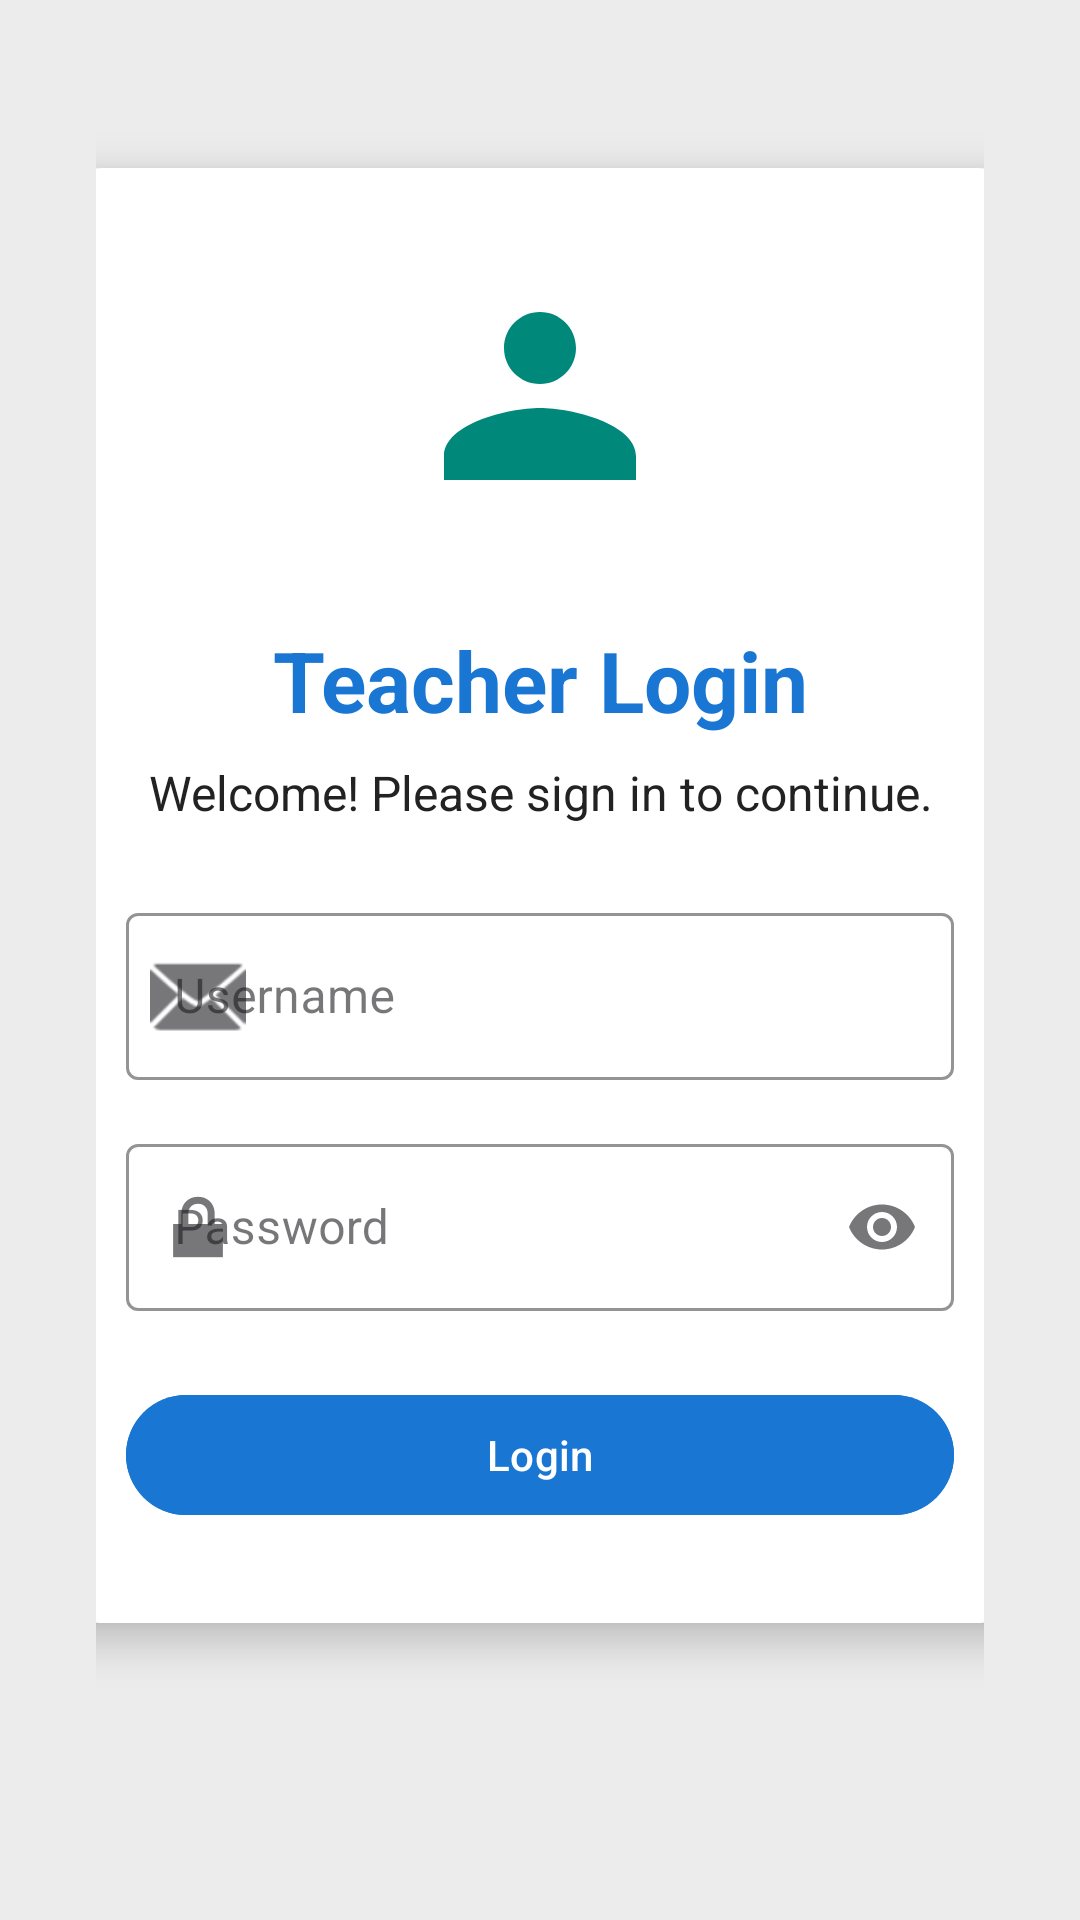

Icon click points for this 1080×1920 phone screenshot, format [x,y]:
profile: [540,396]
